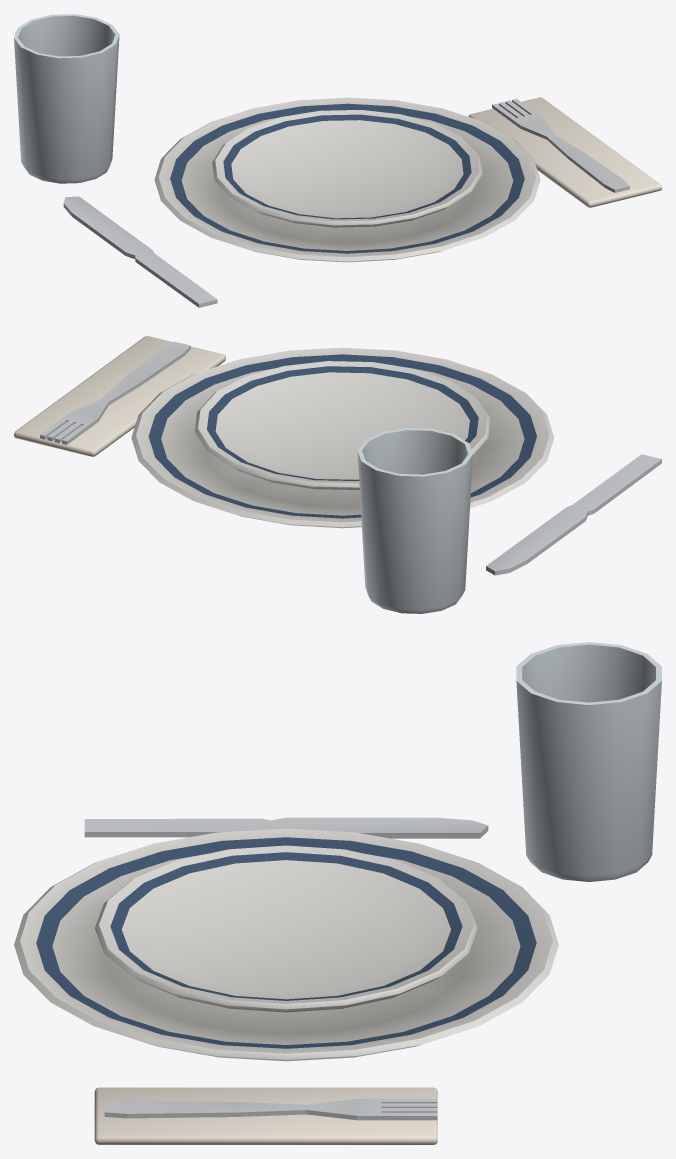
Rendered from plateSet.glb.
3 renders of one model, top to bottom at view 1: azimuth 30°, elevation 25°; view 2: azimuth 150°, elevation 25°; view 3: azimuth 270°, elevation 25°, orthographic. The views are drawn at different scales.
Visible parts, largest first — view 1: plateSet; view 2: plateSet; view 3: plateSet.
Part boxes in pixels (x1,y1,x2,y2): plateSet: (14, 14, 661, 307); plateSet: (14, 336, 661, 613); plateSet: (14, 642, 661, 1144).
Size of the model in its own units: 0.379 by 0.1 by 0.3211.
